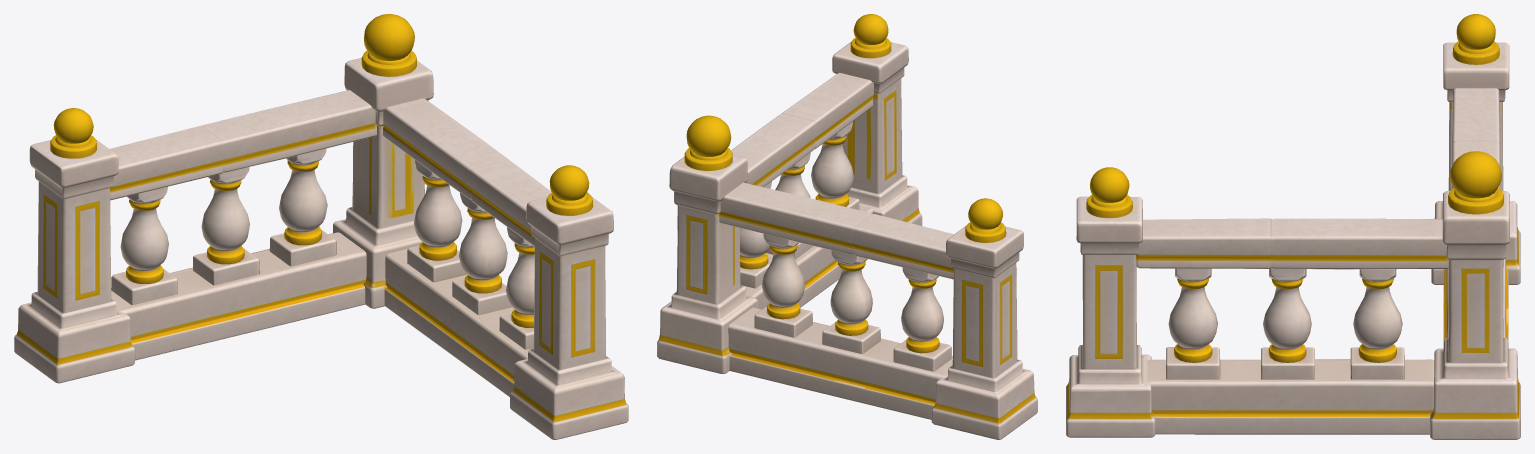
File: HaloVar4_Balustrade_C_SM_texMV4k_pbr_src.fbx
3 renders of one model, left to right at view 1: azimuth 30°, elevation 25°; view 2: azimuth 150°, elevation 25°; view 3: azimuth 270°, elevation 25°, orthographic. The views are drawn at different scales.
Visible parts, largest first — view 1: f7d88e8a_7ed8_42da_9e95_56be5d75dddc; view 2: f7d88e8a_7ed8_42da_9e95_56be5d75dddc; view 3: f7d88e8a_7ed8_42da_9e95_56be5d75dddc.
Boxes of the visible parts, box(x1,y1,x2,y2) form: f7d88e8a_7ed8_42da_9e95_56be5d75dddc: box(14, 14, 628, 439); f7d88e8a_7ed8_42da_9e95_56be5d75dddc: box(657, 14, 1037, 439); f7d88e8a_7ed8_42da_9e95_56be5d75dddc: box(1066, 14, 1520, 439).
Size of the model in its own units: 0.9995 by 0.6489 by 0.9995.
1 material, 1 textured.
